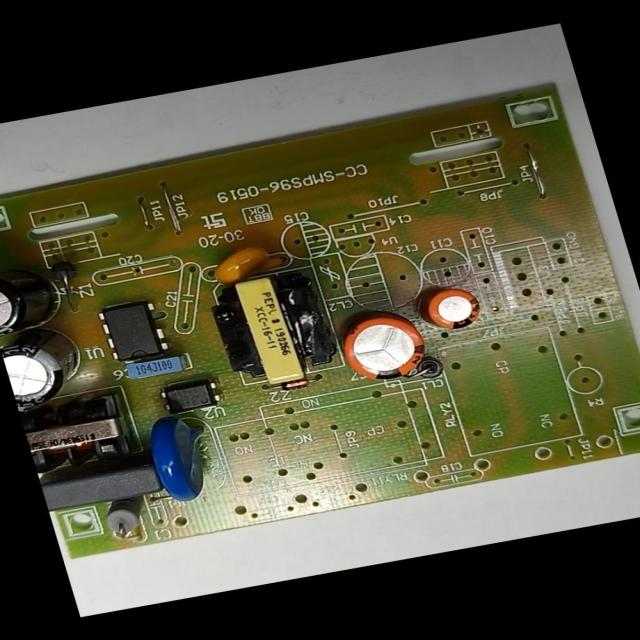Cap1: (331, 304, 437, 390)
Cap2: (420, 281, 489, 339)
Cap3: (0, 328, 93, 411)
Cap4: (0, 256, 70, 340)
MOSFET: (94, 294, 179, 370)
Mov: (138, 406, 227, 511)
Resistor: (88, 492, 159, 543)
Transformer: (205, 268, 342, 392), (19, 392, 140, 477)
